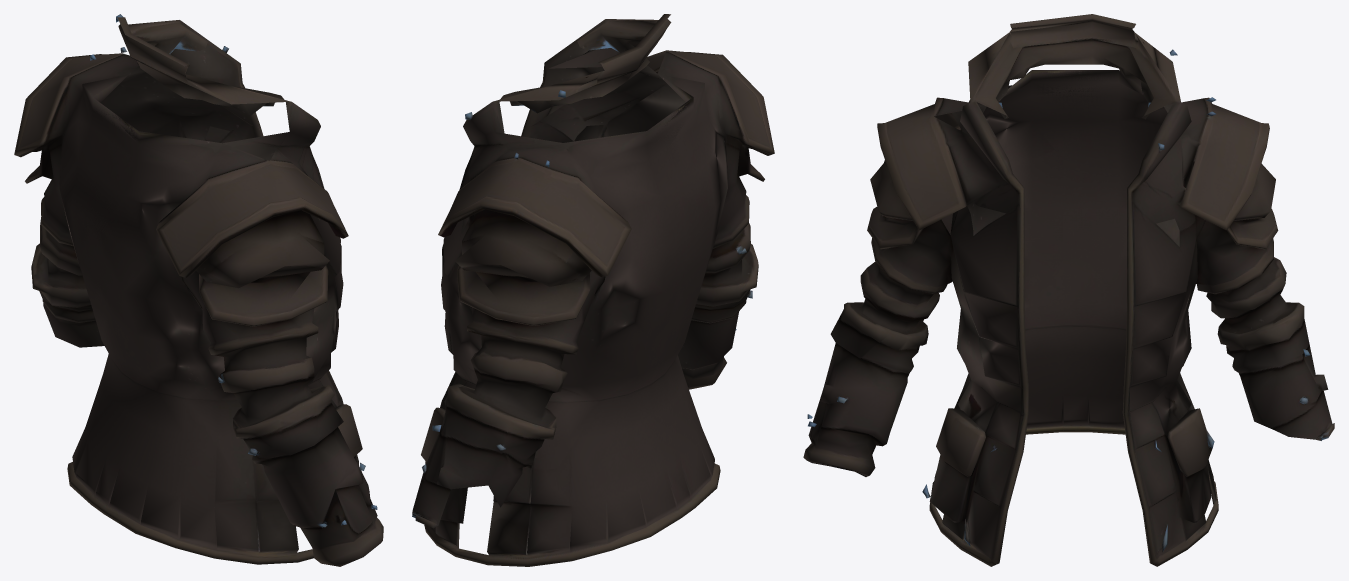
The model's file is quilted_rags.glb.
The picture shows the model from 3 angles, left to right: view 1: azimuth 30°, elevation 25°; view 2: azimuth 150°, elevation 25°; view 3: azimuth 270°, elevation 25°; orthographic projection. The views are drawn at different scales.
Visible parts, largest first — view 1: base_model_path; view 2: base_model_path; view 3: base_model_path.
Boxes of the visible parts, box(x1,y1,x2,y2) form: base_model_path: box(14, 14, 383, 566); base_model_path: box(412, 14, 774, 566); base_model_path: box(803, 14, 1334, 566).
Size of the model in its own units: 0.4635 by 0.972 by 0.9955.
Materials: 1 (1 with a texture image).
